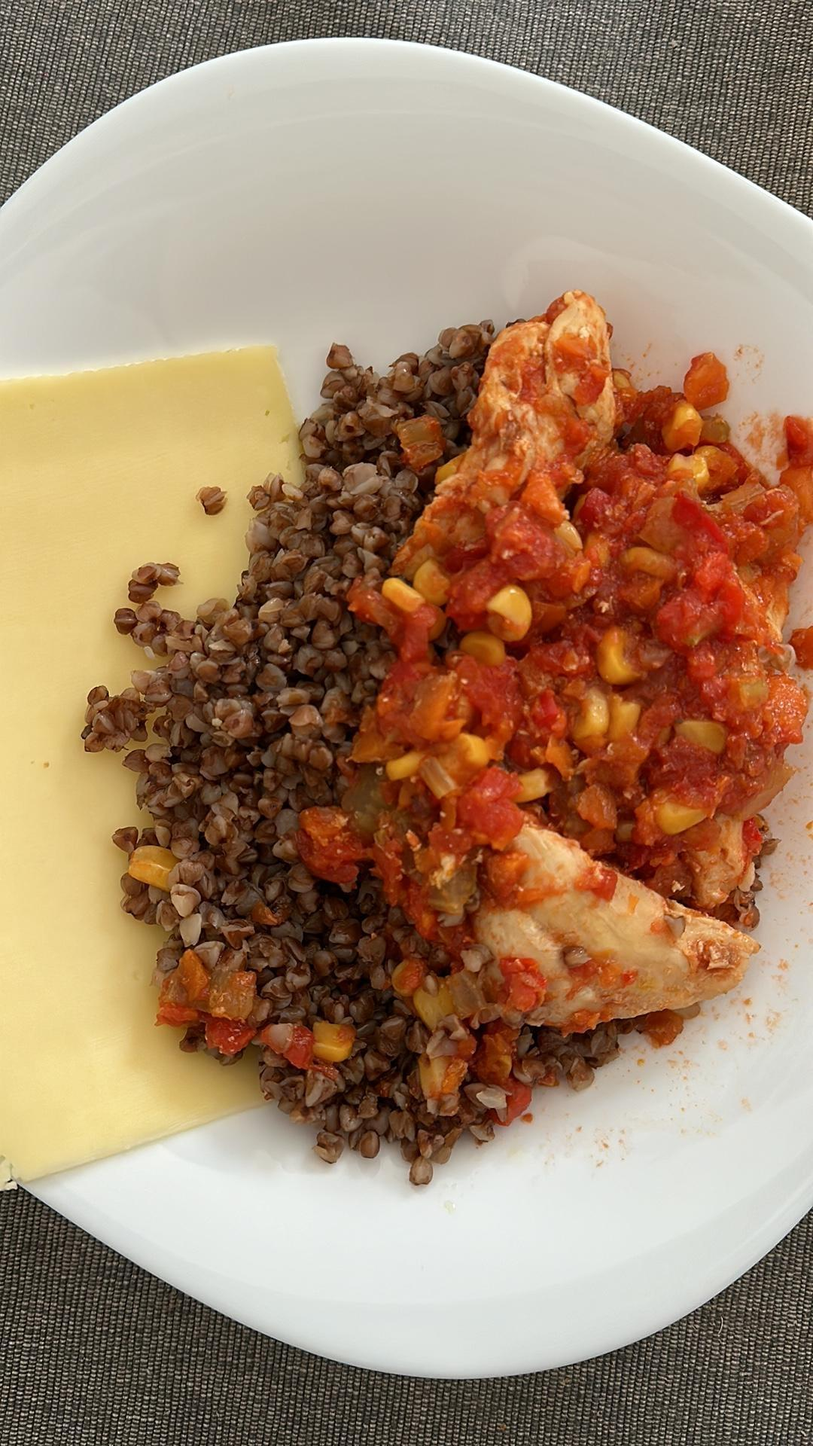corn: (485, 581, 539, 645), (595, 624, 641, 685), (651, 787, 708, 833), (679, 712, 734, 756), (651, 794, 709, 833), (125, 845, 178, 884), (662, 395, 700, 447), (382, 577, 433, 615), (612, 689, 642, 747), (574, 688, 605, 743), (461, 630, 509, 664), (311, 1019, 354, 1056), (453, 725, 489, 768), (414, 564, 457, 599), (505, 767, 553, 798), (667, 451, 709, 485), (388, 748, 425, 786)
